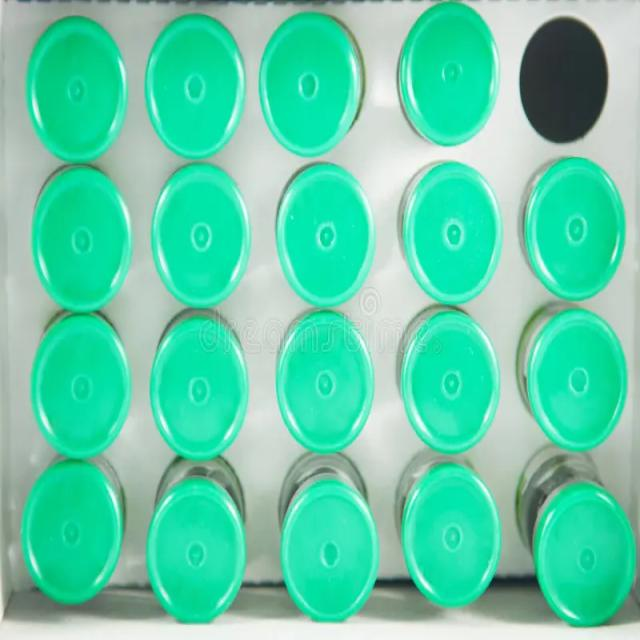vial: (147, 491, 260, 618), (30, 318, 146, 438), (280, 496, 380, 620), (29, 26, 137, 140), (287, 323, 379, 450), (156, 330, 252, 448), (157, 168, 249, 286), (37, 176, 132, 286), (404, 481, 500, 588), (28, 486, 128, 583), (146, 17, 233, 128), (546, 486, 630, 598), (406, 8, 484, 124), (281, 181, 368, 285), (538, 318, 620, 428), (406, 328, 490, 432), (534, 168, 615, 268), (272, 28, 348, 130), (418, 172, 486, 280)
